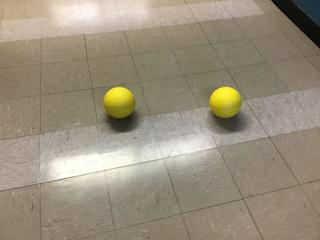power_cell: (207, 82, 244, 119), (102, 86, 138, 119)
